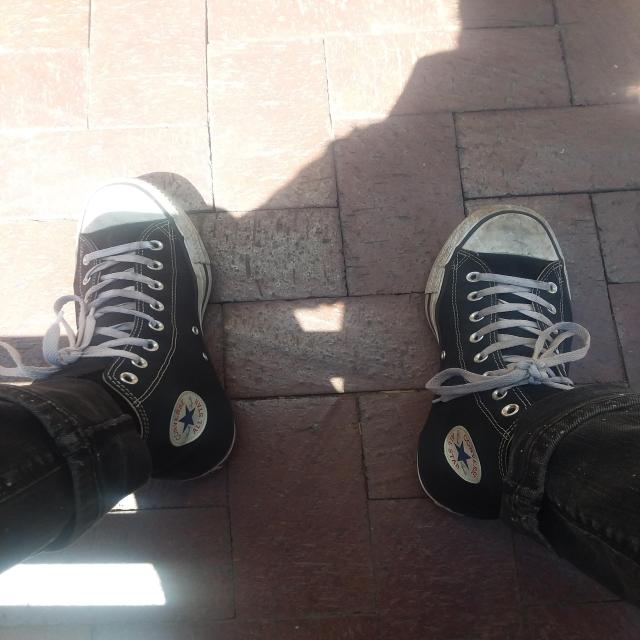shoes: (33, 180, 241, 486), (415, 202, 584, 519)
